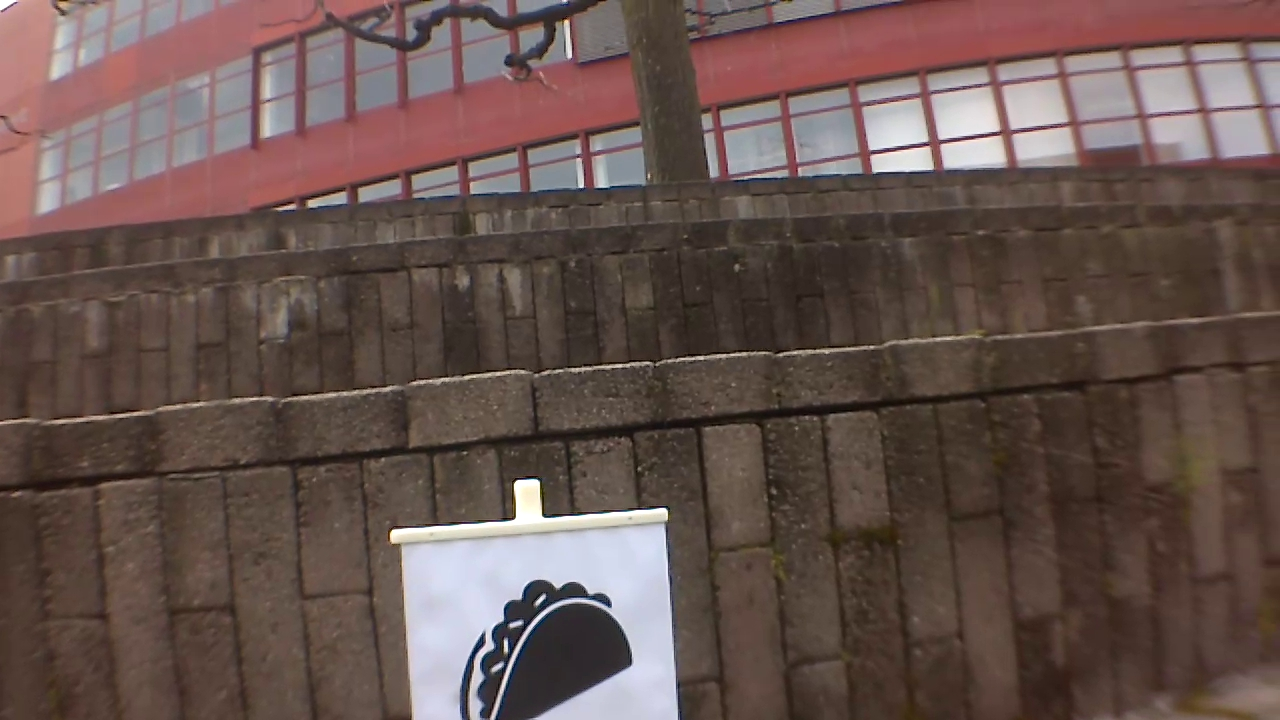taco: (454, 571, 638, 717)
